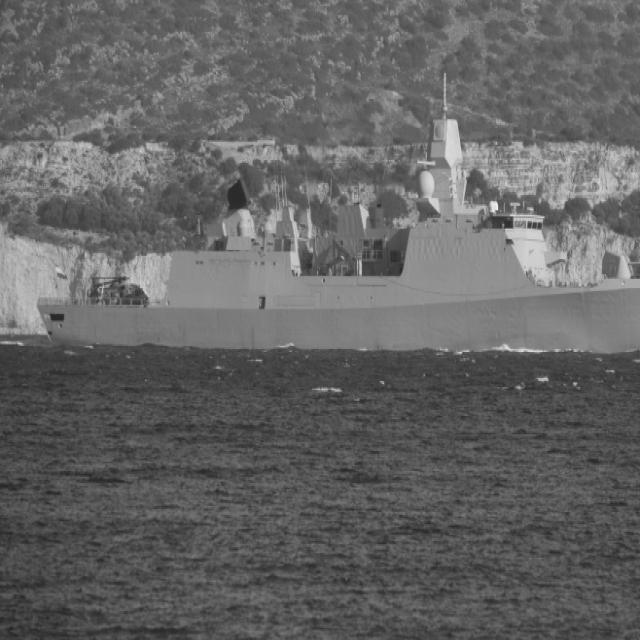Fragata: (26, 56, 640, 359)
